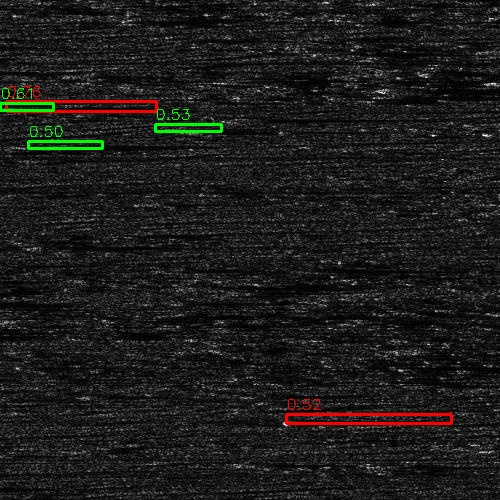rock: (142, 124, 225, 133), (206, 115, 269, 120), (0, 102, 36, 109), (43, 139, 74, 146), (497, 77, 500, 84)
shadow: (10, 102, 164, 109), (59, 139, 210, 146), (238, 115, 407, 120), (184, 124, 265, 133), (0, 497, 127, 500), (0, 273, 30, 284), (0, 301, 34, 306), (449, 365, 500, 368)
